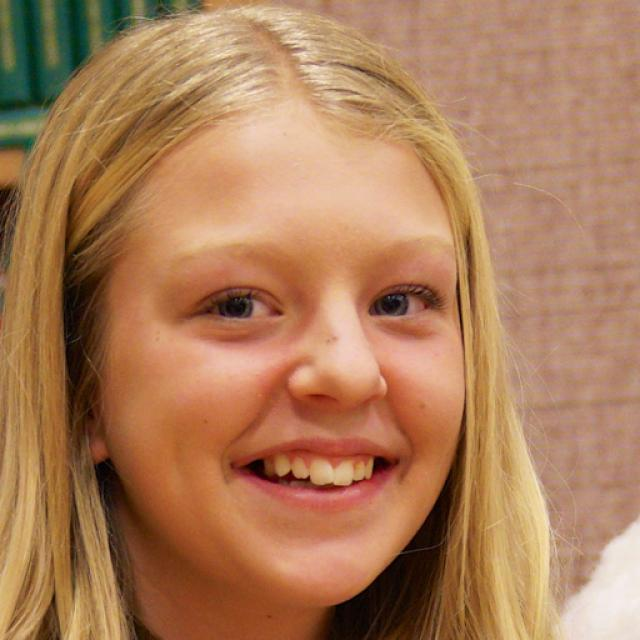happy: (102, 122, 472, 604)
